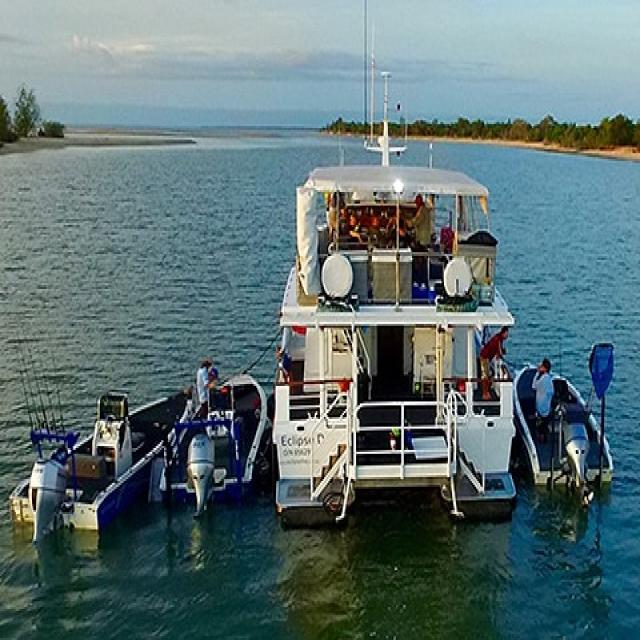passenger ship: (272, 110, 543, 557)
